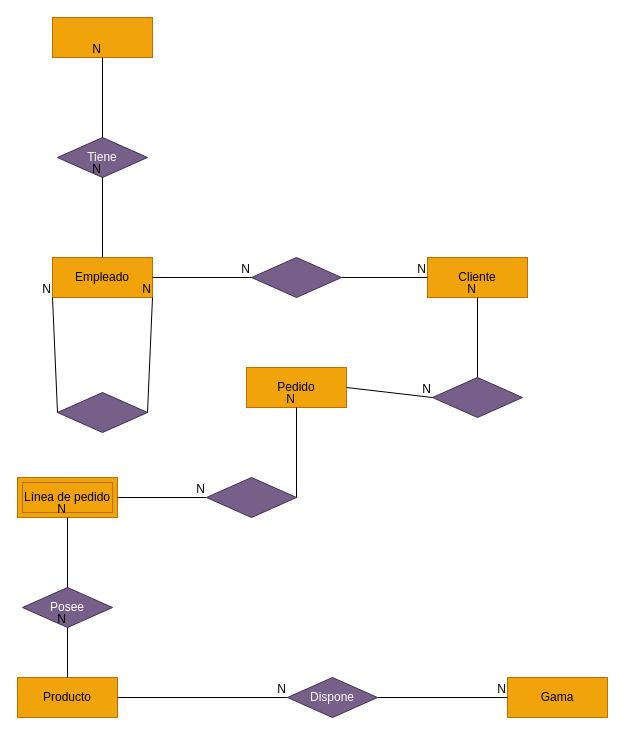
The diagram is 625 pixels wide and 735 high, and some of its shapes have lost their labels. The shapes that lost their labels are listed below. From the top down, each one's centre as x and y in pixels, then its label:
At (x=102, y=37): "Oficina".
At (x=296, y=277): "Representa".
At (x=102, y=412): "Es".
At (x=477, y=397): "Realiza".
At (x=251, y=497): "Contiene".
